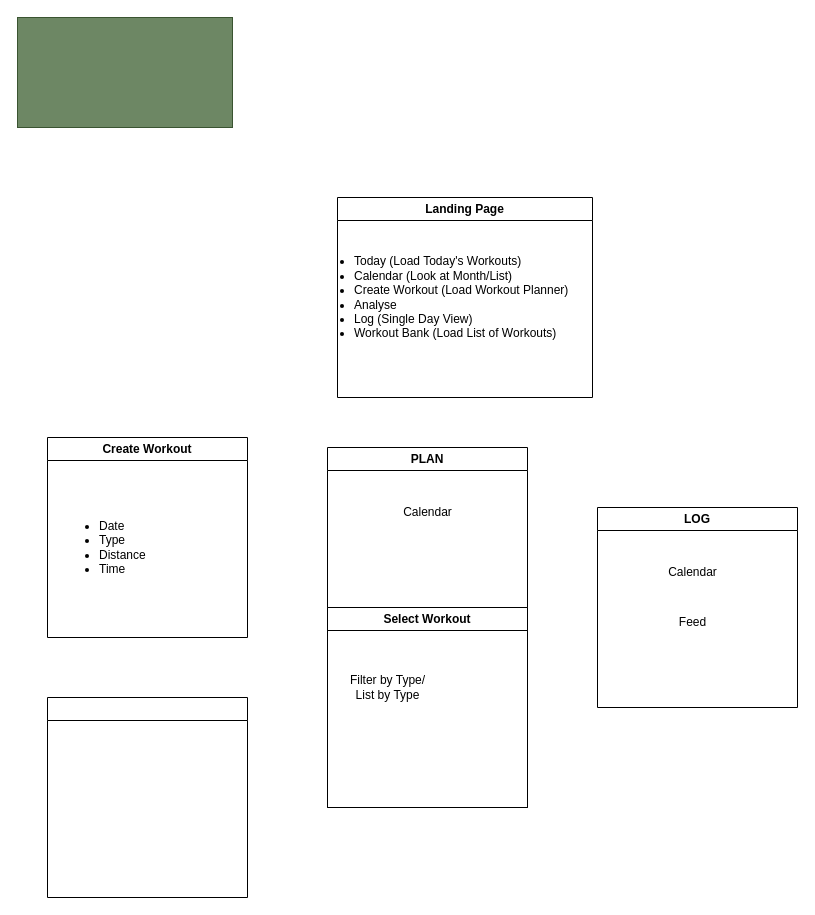
Image size: 815x915. Some labels were removed from this diagram. The shapes that lost their labels are listed below. From the top down, each one's centre as x and y in pixels, then its label:
(x=124, y=72): Create Workouts Place Workout on Days Log Workouts Analyse Data
(x=147, y=797): Data Analysis
